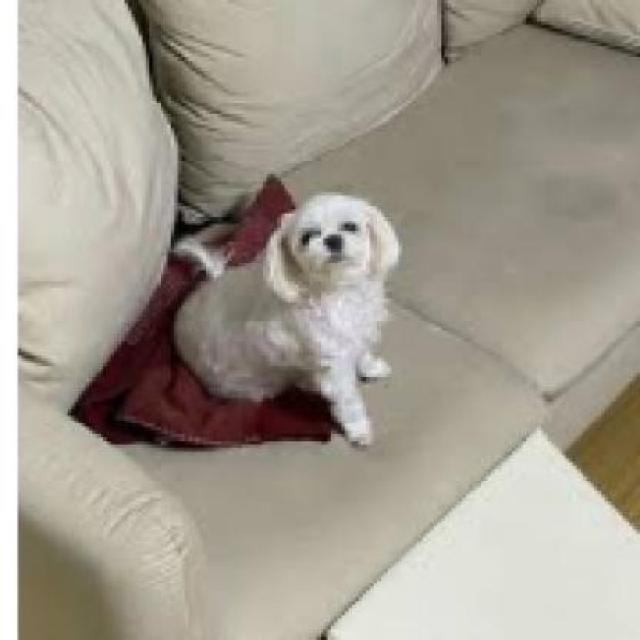Dog: (166, 190, 406, 448)
